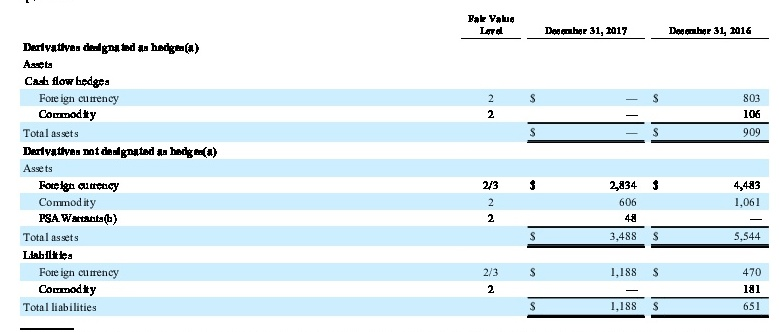table: (0, 0, 779, 332)
